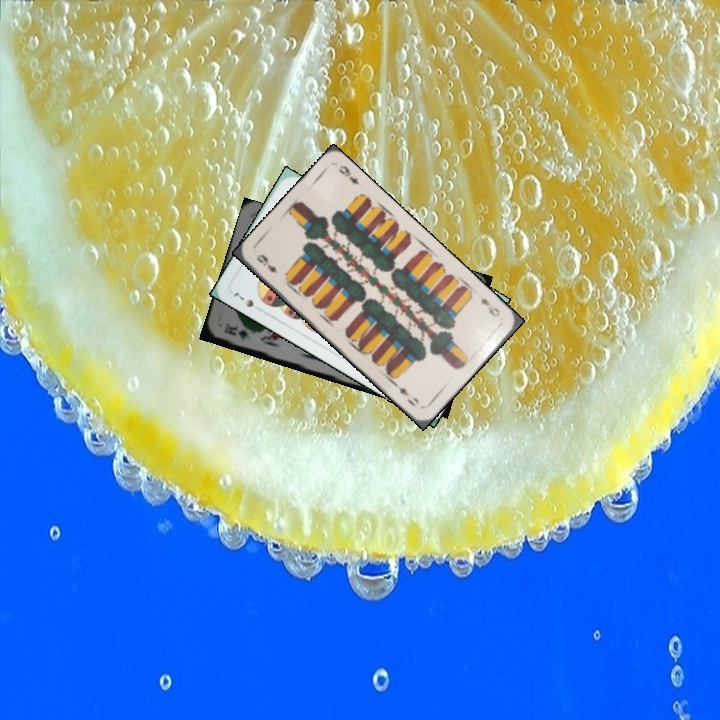E9: (252, 250, 279, 276), (477, 294, 502, 319)
GK: (220, 322, 252, 342)
S7: (229, 288, 256, 310)
